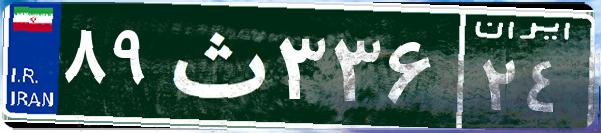2: (475, 38, 525, 113)
3: (273, 28, 330, 110), (330, 28, 385, 110)
4: (525, 38, 570, 115)
6: (385, 28, 445, 110)
8: (57, 26, 110, 107)
9: (110, 28, 158, 105)
ث: (158, 15, 273, 115)
